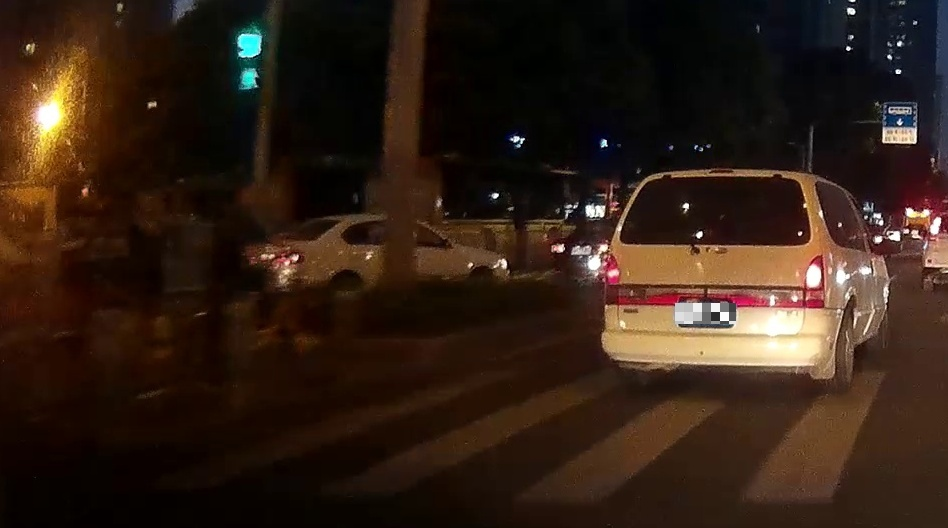L_light: (605, 255, 621, 285)
R_light: (805, 256, 824, 292)
T_light: (704, 177, 733, 184)
night-right: (601, 169, 827, 391)
plate_1: (675, 303, 736, 324)
